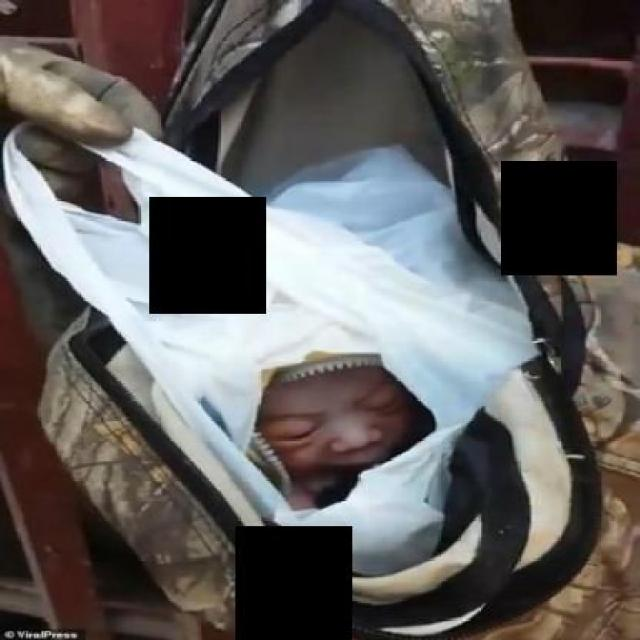plastic bag: (9, 21, 618, 612)
